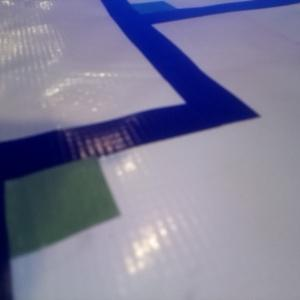bottom_right: (1, 141, 120, 257)
top_right: (116, 1, 177, 21)
